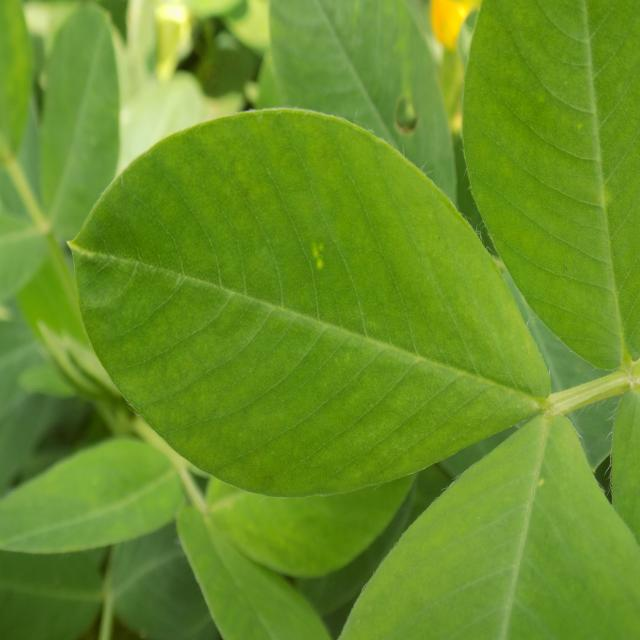Ground nut_healthy: (74, 113, 558, 495), (196, 428, 426, 574)
